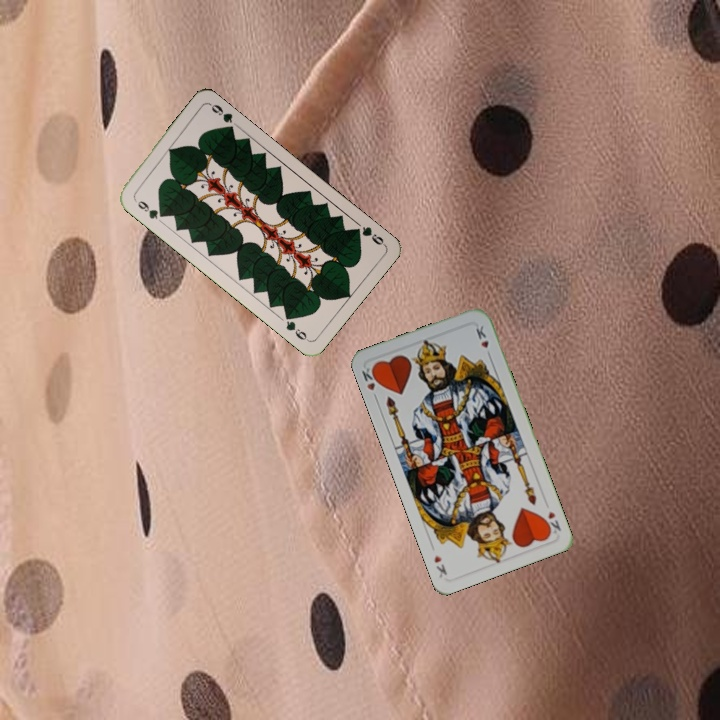G9: (130, 194, 167, 222), (349, 222, 388, 248)
HK: (357, 363, 382, 403), (540, 507, 564, 537)
